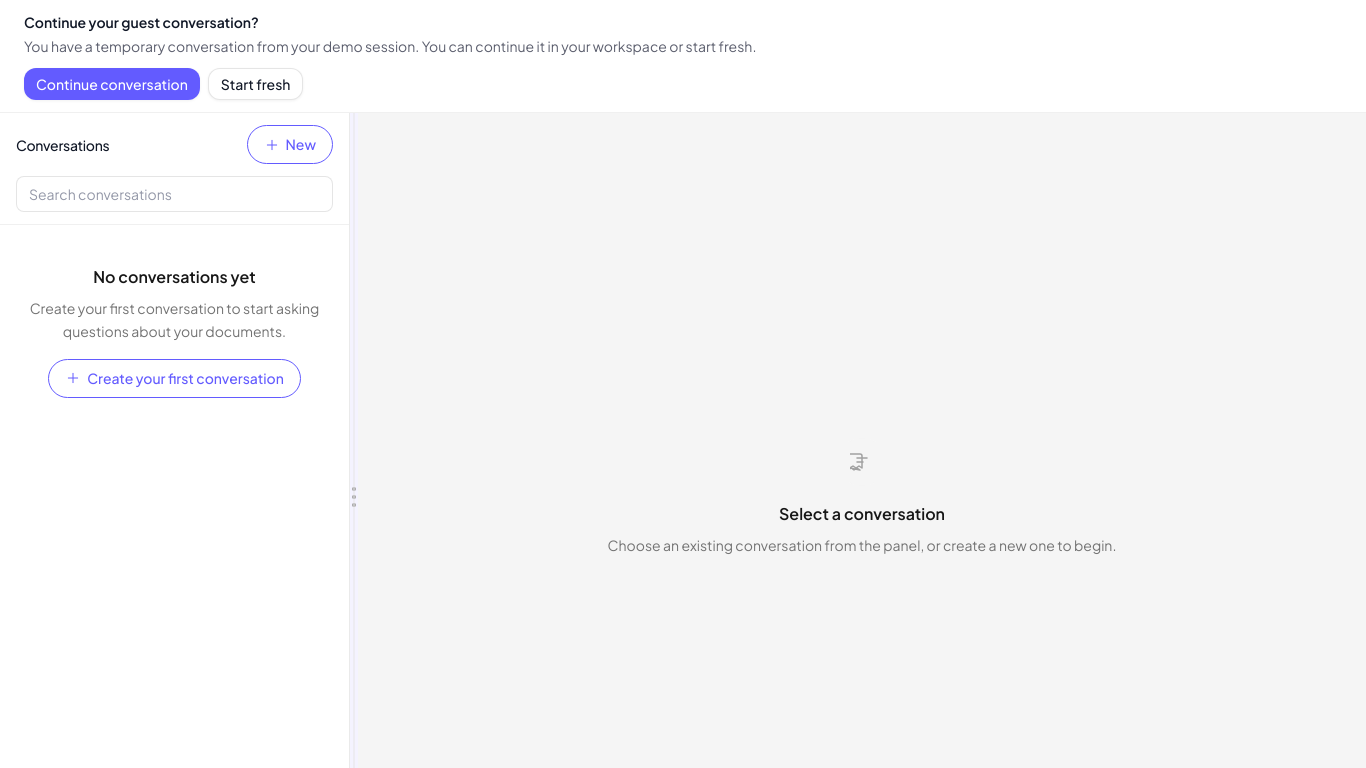
ChatPage guest continue prompt › Start fresh clears guest state without import
Step 1. Click the button "Start fresh" → (256, 84), box [208,68,304,100]
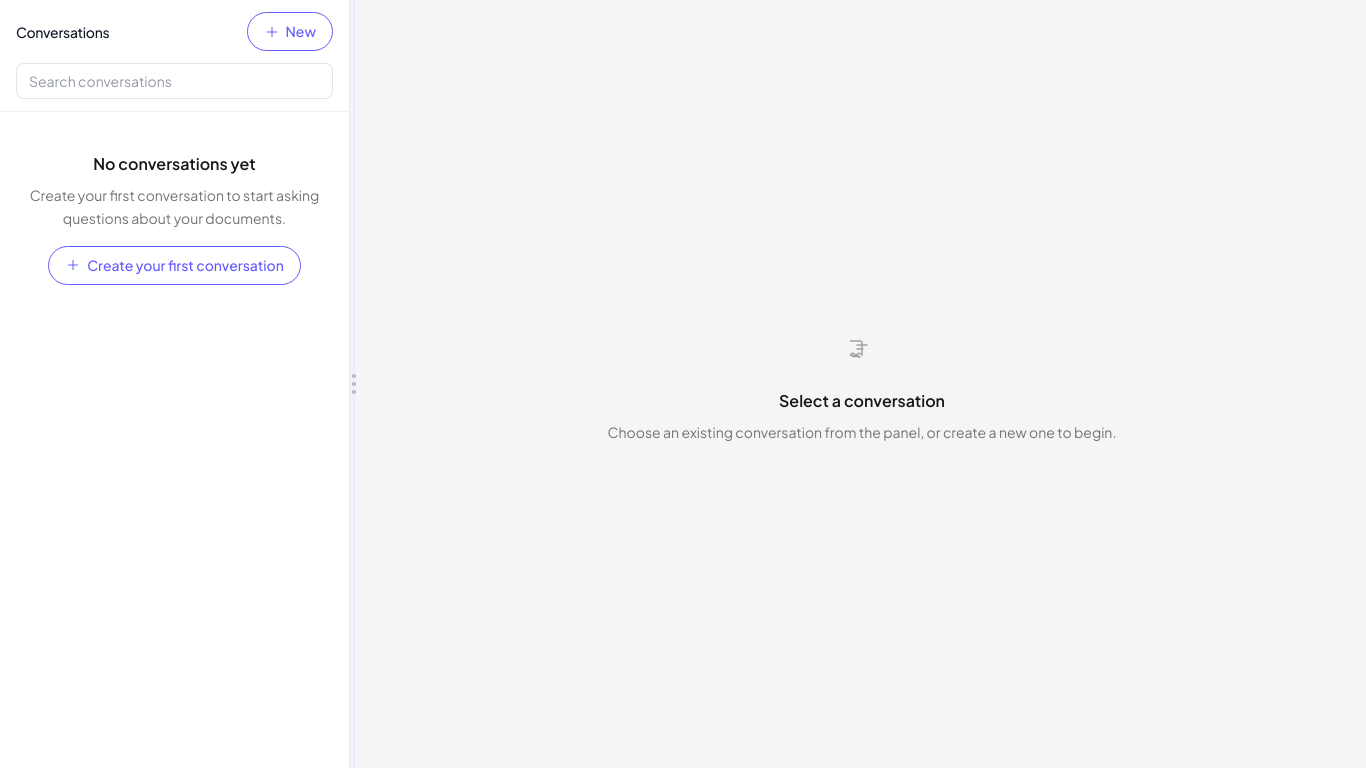
Result: the text "Continue your guest conversation" is gone
